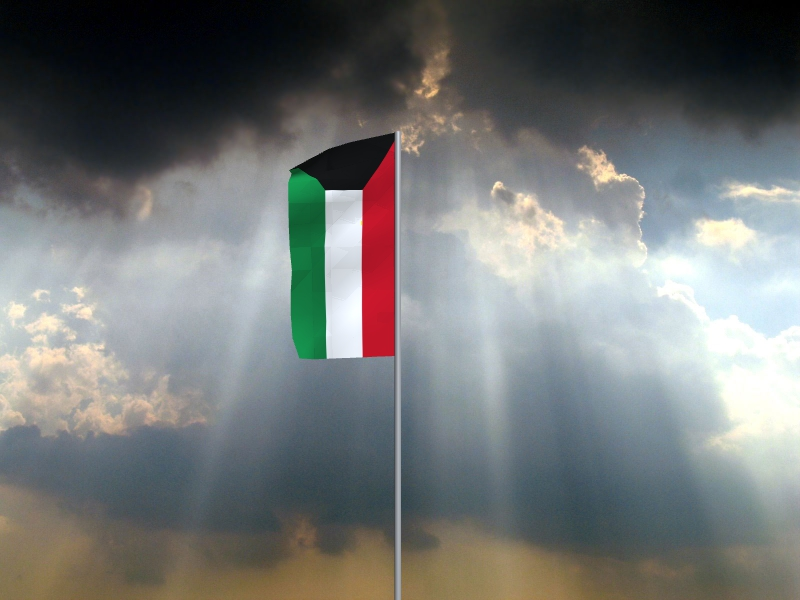kw: (287, 134, 395, 361)
